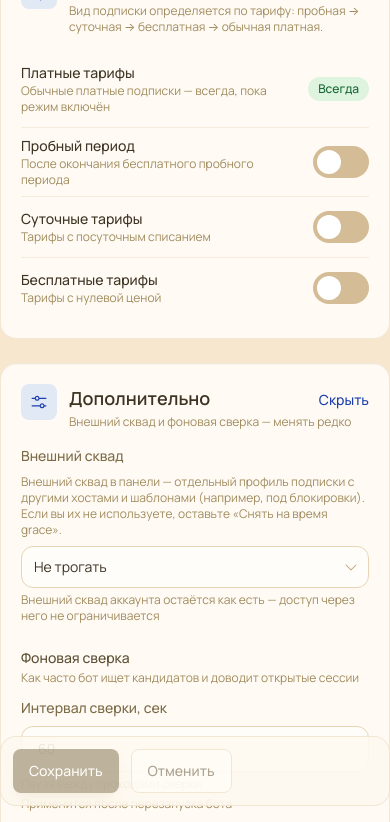
Test: раздел grace-доступа › «Скрыть» сворачивает «Дополнительно» и при настроенном внешнем скваде
(page scrolled)
Check: the dropdown labelled "Внешний сквад" is shown, box [21,546,369,588]
What coordinates should you click on to do the following:
click the button "Скрыть"
I would click on:
 (344, 400)
Its box is [319,390,369,410].
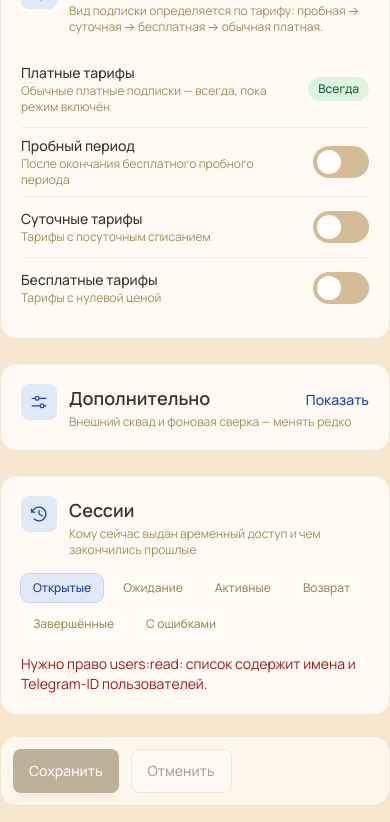
What coordinates should you click on to do the following:
click the button "Показать"
I would click on:
 (337, 400)
Its box is [306,390,369,410].
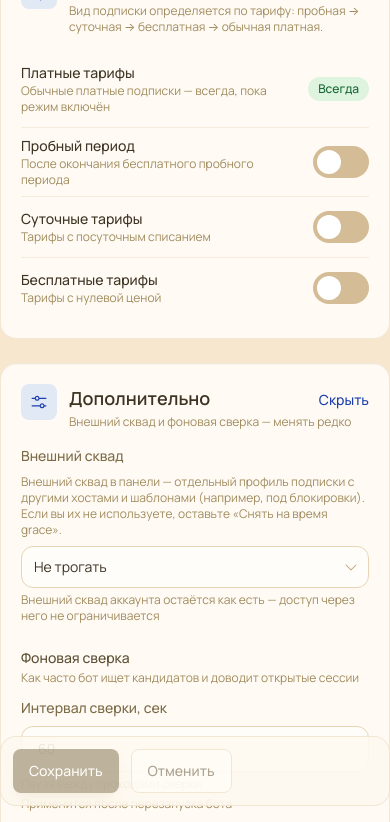
Check: the dropdown labelled "Внешний сквад" is shown, box [21,546,369,588]
